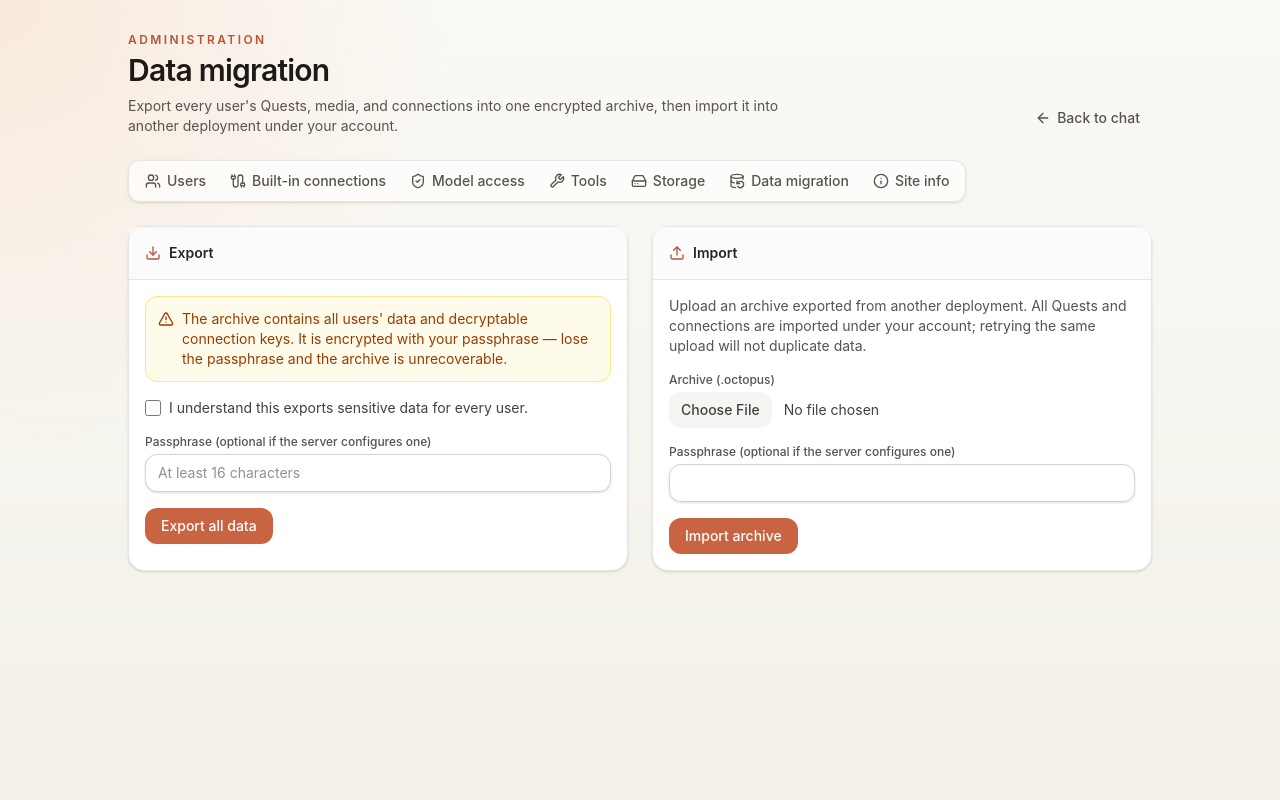
Test: MigrationPage › blocks a too-short passphrase client-side
Step 1. Click the checkbox labelled "I understand this exports sensitive data for every user." → (153, 408), box [145,400,161,416]
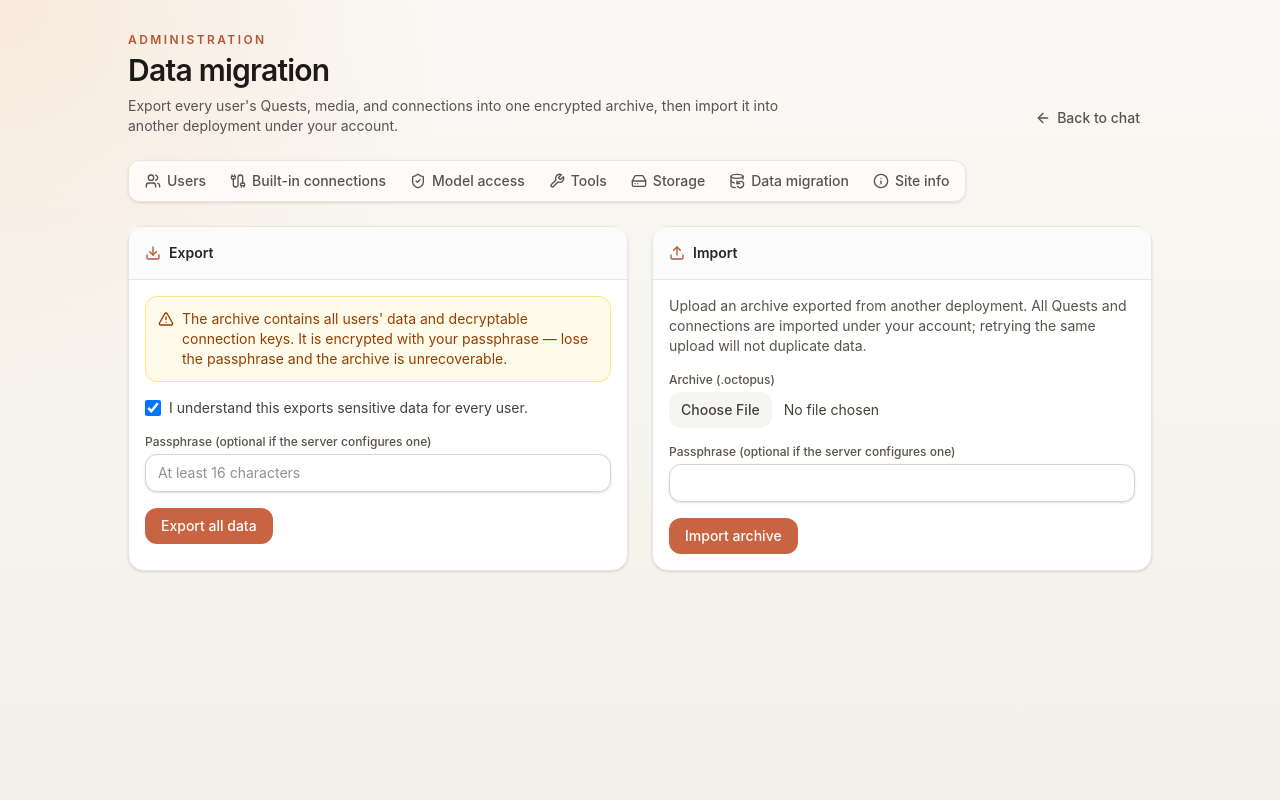
Step 2. Type "short" into the password field with placeholder "At least 16 characters" → (378, 473), box [145,454,611,492]
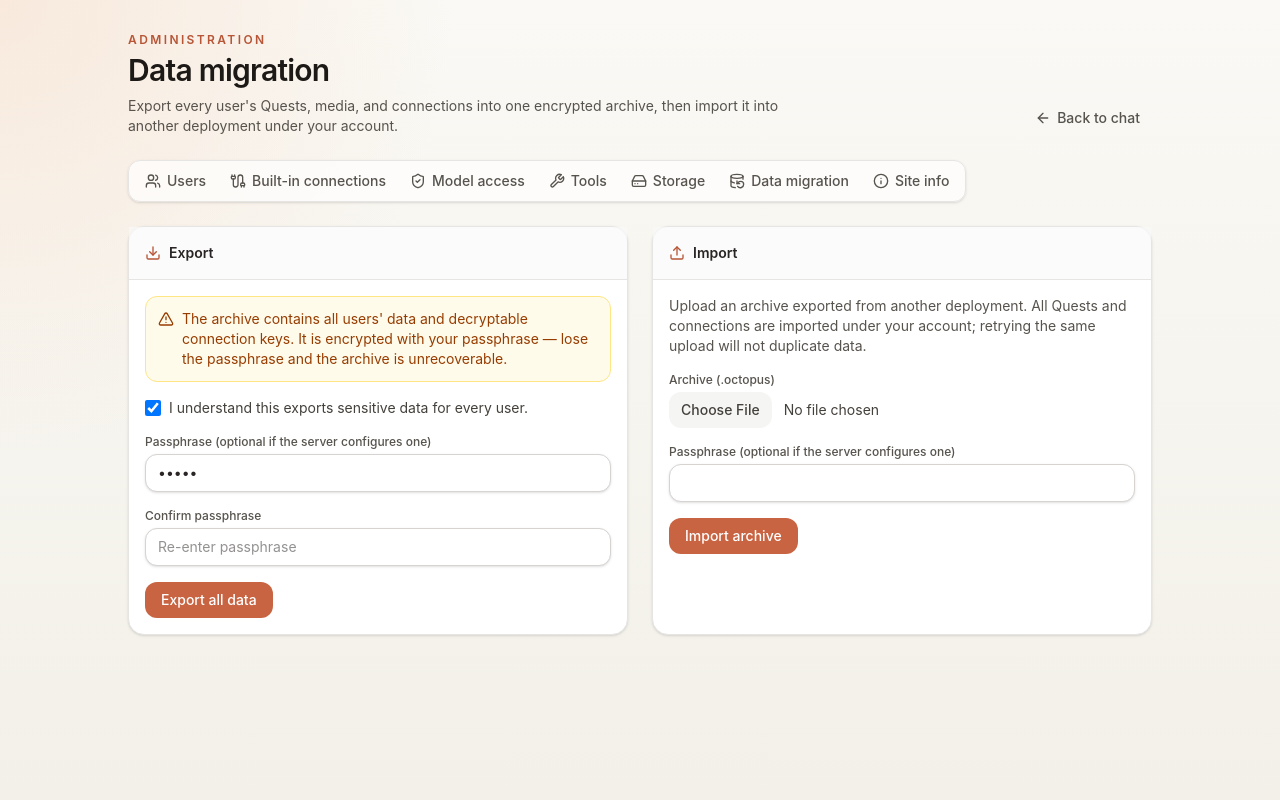
Step 3. Click the button "Export all data" → (209, 600), box [145,582,273,618]
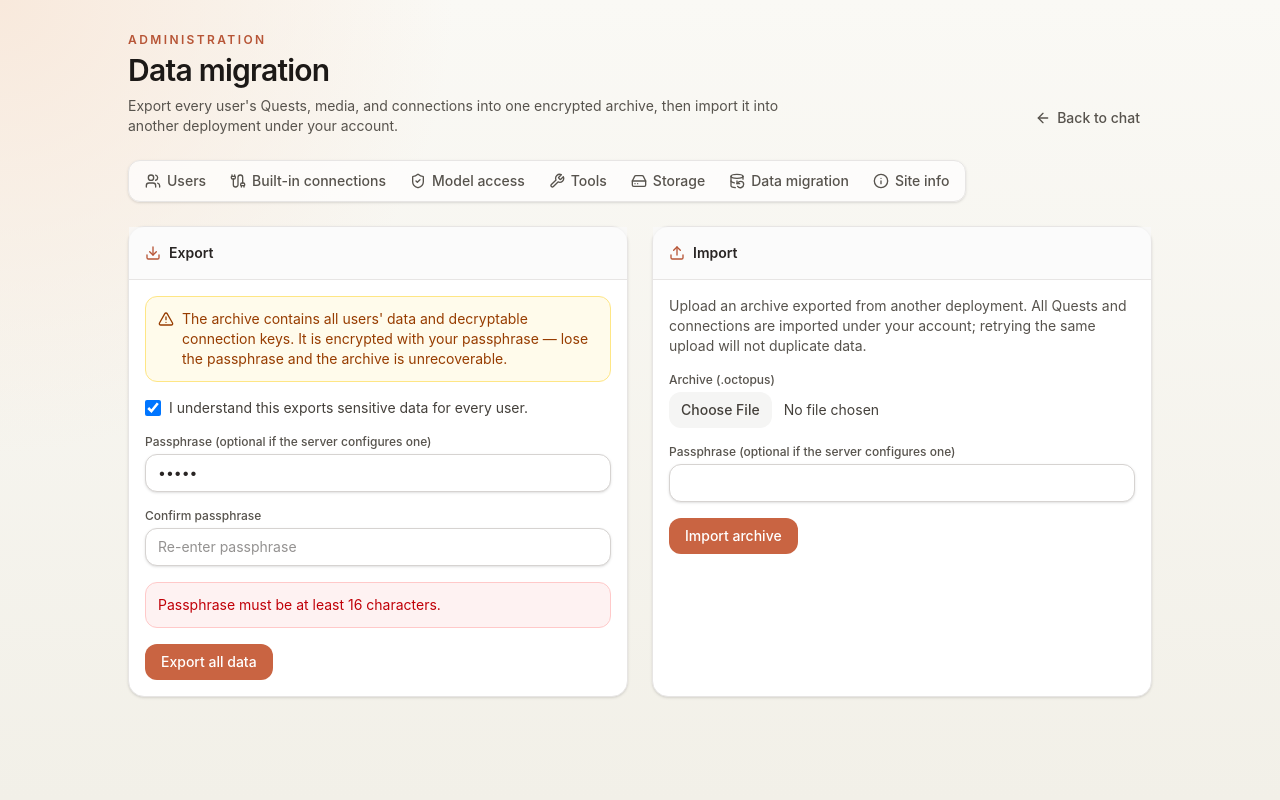
Result: the text "Passphrase must be at least 16 characters." is shown at [145,582,611,628]
